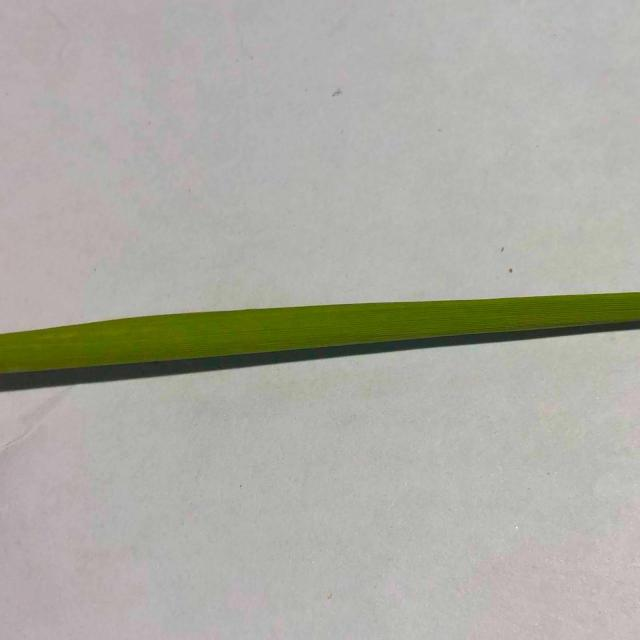healthy: (2, 263, 640, 413)
